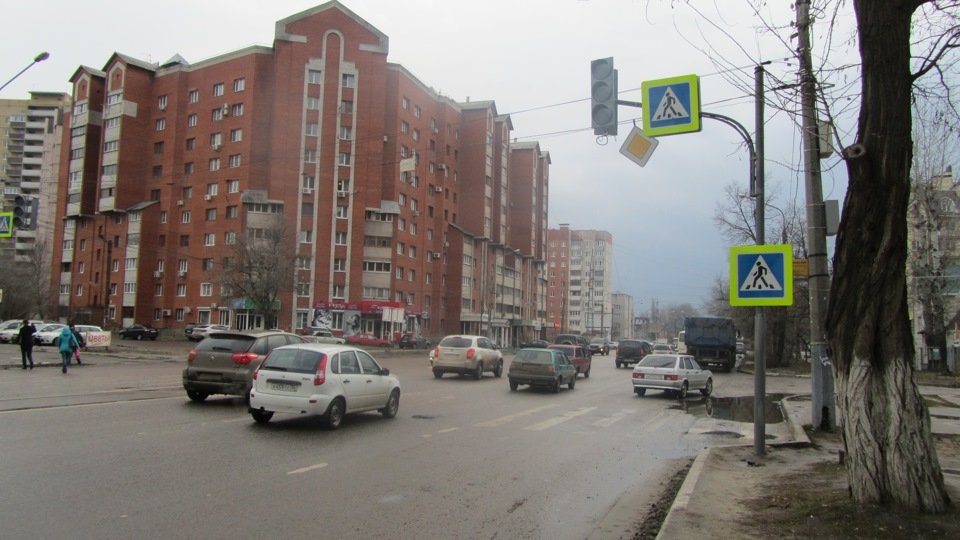tl: (590, 57, 620, 137), (10, 196, 29, 228)
